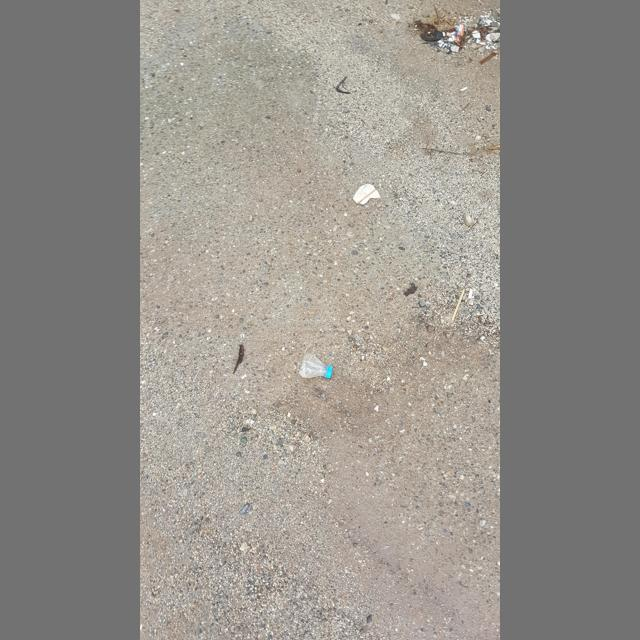litter: (299, 353, 333, 378), (353, 183, 381, 205), (420, 30, 443, 41), (454, 24, 464, 46), (327, 366, 333, 378), (461, 87, 468, 92)
